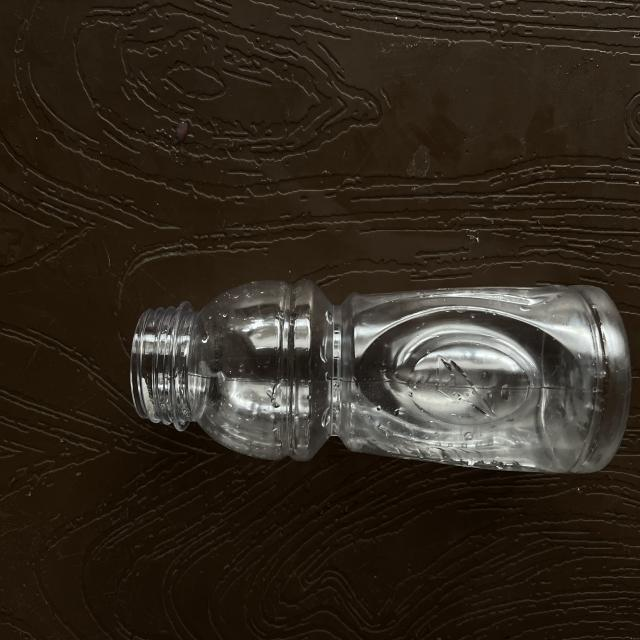PET_With_Liquid: (189, 283, 603, 472), (340, 290, 602, 471)
